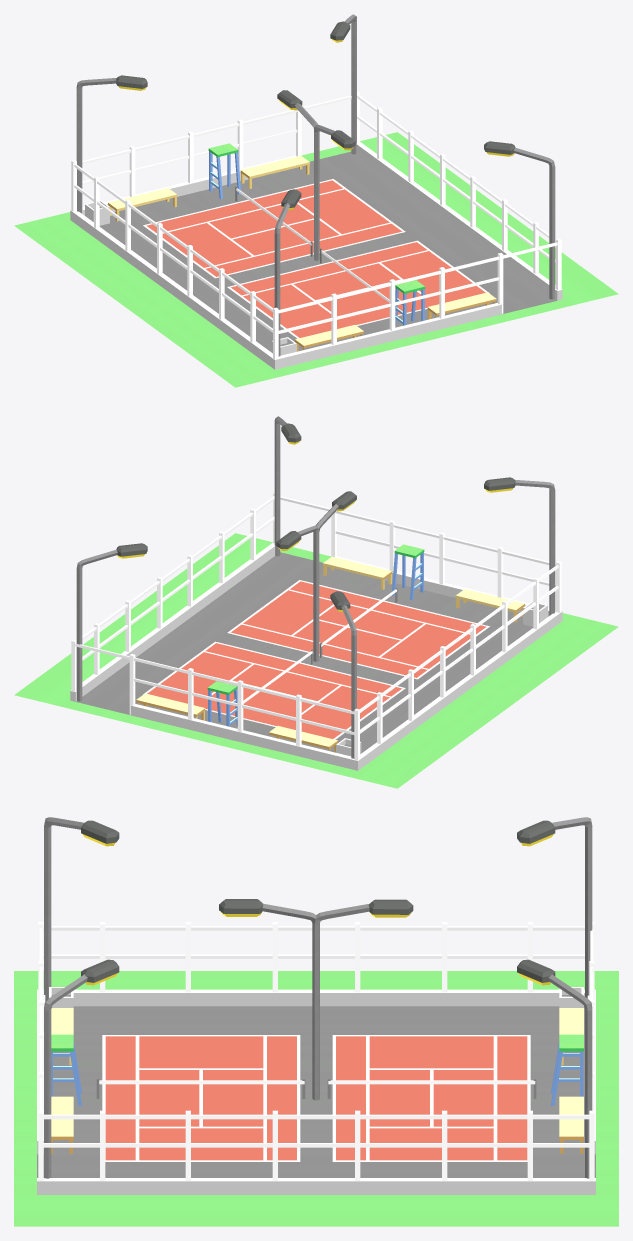
Rendered from landscape_entertainments.006.glb.
3 renders of one model, top to bottom at view 1: azimuth 30°, elevation 25°; view 2: azimuth 150°, elevation 25°; view 3: azimuth 270°, elevation 25°, orthographic. The views are drawn at different scales.
Parts seen in each view (by area): view 1: landscape_entertainments.006(Clone); view 2: landscape_entertainments.006(Clone); view 3: landscape_entertainments.006(Clone).
Boxes of the visible parts, bbox=[...] form: landscape_entertainments.006(Clone): bbox=[14, 14, 618, 387]; landscape_entertainments.006(Clone): bbox=[14, 416, 618, 788]; landscape_entertainments.006(Clone): bbox=[14, 817, 618, 1226].
Size of the model in its own units: 16 by 6.17 by 16.
Materials: 1 (1 with a texture image).
